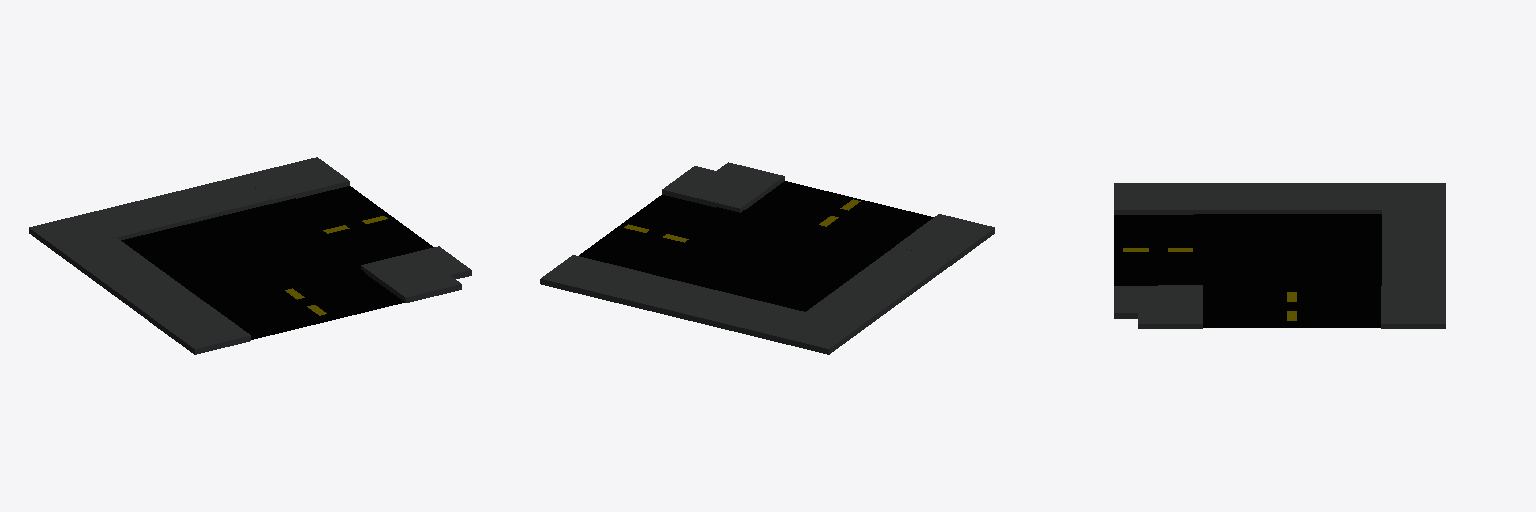
The model's file is Road-turn.obj.
3 renders of one model, left to right at view 1: azimuth 30°, elevation 25°; view 2: azimuth 150°, elevation 25°; view 3: azimuth 270°, elevation 25°, orthographic.
Parts seen in each view (by area): view 1: Mesh.003_Plane, Mesh_Cube.001_Cube.002, Mesh.001_Cube_Cube.001, Mesh.005_Mesh.001_Mesh.005_Cube.001_Cube.007, Mesh.004_Mesh.002_Mesh.002_Cube.001_Cube.004, Mesh.006_Mesh_Mesh.006_Cube.001_Cube.008, Mesh.002_Mesh.003_Mesh.000_Cube.001_Cube.002; view 2: Mesh.003_Plane, Mesh_Cube.001_Cube.002, Mesh.001_Cube_Cube.001, Mesh.004_Mesh.002_Mesh.002_Cube.001_Cube.004, Mesh.005_Mesh.001_Mesh.005_Cube.001_Cube.007, Mesh.006_Mesh_Mesh.006_Cube.001_Cube.008, Mesh.002_Mesh.003_Mesh.000_Cube.001_Cube.002; view 3: Mesh.003_Plane, Mesh.004_Mesh.002_Mesh.002_Cube.001_Cube.004, Mesh.001_Cube_Cube.001, Mesh_Cube.001_Cube.002, Mesh.005_Mesh.001_Mesh.005_Cube.001_Cube.007, Mesh.002_Mesh.003_Mesh.000_Cube.001_Cube.002, Mesh.006_Mesh_Mesh.006_Cube.001_Cube.008.
Boxes of the visible parts, x1=… form: Mesh.003_Plane: x1=121, y1=198, x2=379, y2=308; Mesh_Cube.001_Cube.002: x1=48, y1=176, x2=271, y2=246; Mesh.001_Cube_Cube.001: x1=29, y1=218, x2=205, y2=321; Mesh.005_Mesh.001_Mesh.005_Cube.001_Cube.007: x1=173, y1=275, x2=461, y2=354; Mesh.004_Mesh.002_Mesh.002_Cube.001_Cube.004: x1=279, y1=157, x2=471, y2=278; Mesh.006_Mesh_Mesh.006_Cube.001_Cube.008: x1=150, y1=256, x2=396, y2=338; Mesh.002_Mesh.003_Mesh.000_Cube.001_Cube.002: x1=240, y1=167, x2=432, y2=288; Mesh.003_Plane: x1=633, y1=207, x2=894, y2=311; Mesh_Cube.001_Cube.002: x1=618, y1=274, x2=840, y2=344; Mesh.001_Cube_Cube.001: x1=773, y1=247, x2=950, y2=354; Mesh.004_Mesh.002_Mesh.002_Cube.001_Cube.004: x1=540, y1=166, x2=732, y2=293; Mesh.005_Mesh.001_Mesh.005_Cube.001_Cube.007: x1=717, y1=162, x2=994, y2=248; Mesh.006_Mesh_Mesh.006_Cube.001_Cube.008: x1=684, y1=192, x2=973, y2=265; Mesh.002_Mesh.003_Mesh.000_Cube.001_Cube.002: x1=579, y1=175, x2=771, y2=302; Mesh.003_Plane: x1=1194, y1=214, x2=1381, y2=300; Mesh.004_Mesh.002_Mesh.002_Cube.001_Cube.004: x1=1138, y1=305, x2=1445, y2=328; Mesh.001_Cube_Cube.001: x1=1203, y1=183, x2=1445, y2=213; Mesh_Cube.001_Cube.002: x1=1382, y1=192, x2=1445, y2=285; Mesh.005_Mesh.001_Mesh.005_Cube.001_Cube.007: x1=1114, y1=183, x2=1158, y2=318; Mesh.002_Mesh.003_Mesh.000_Cube.001_Cube.002: x1=1138, y1=286, x2=1445, y2=308; Mesh.006_Mesh_Mesh.006_Cube.001_Cube.008: x1=1158, y1=183, x2=1202, y2=287.
Size of the model in its own units: 14.89 by 0.284 by 14.84.